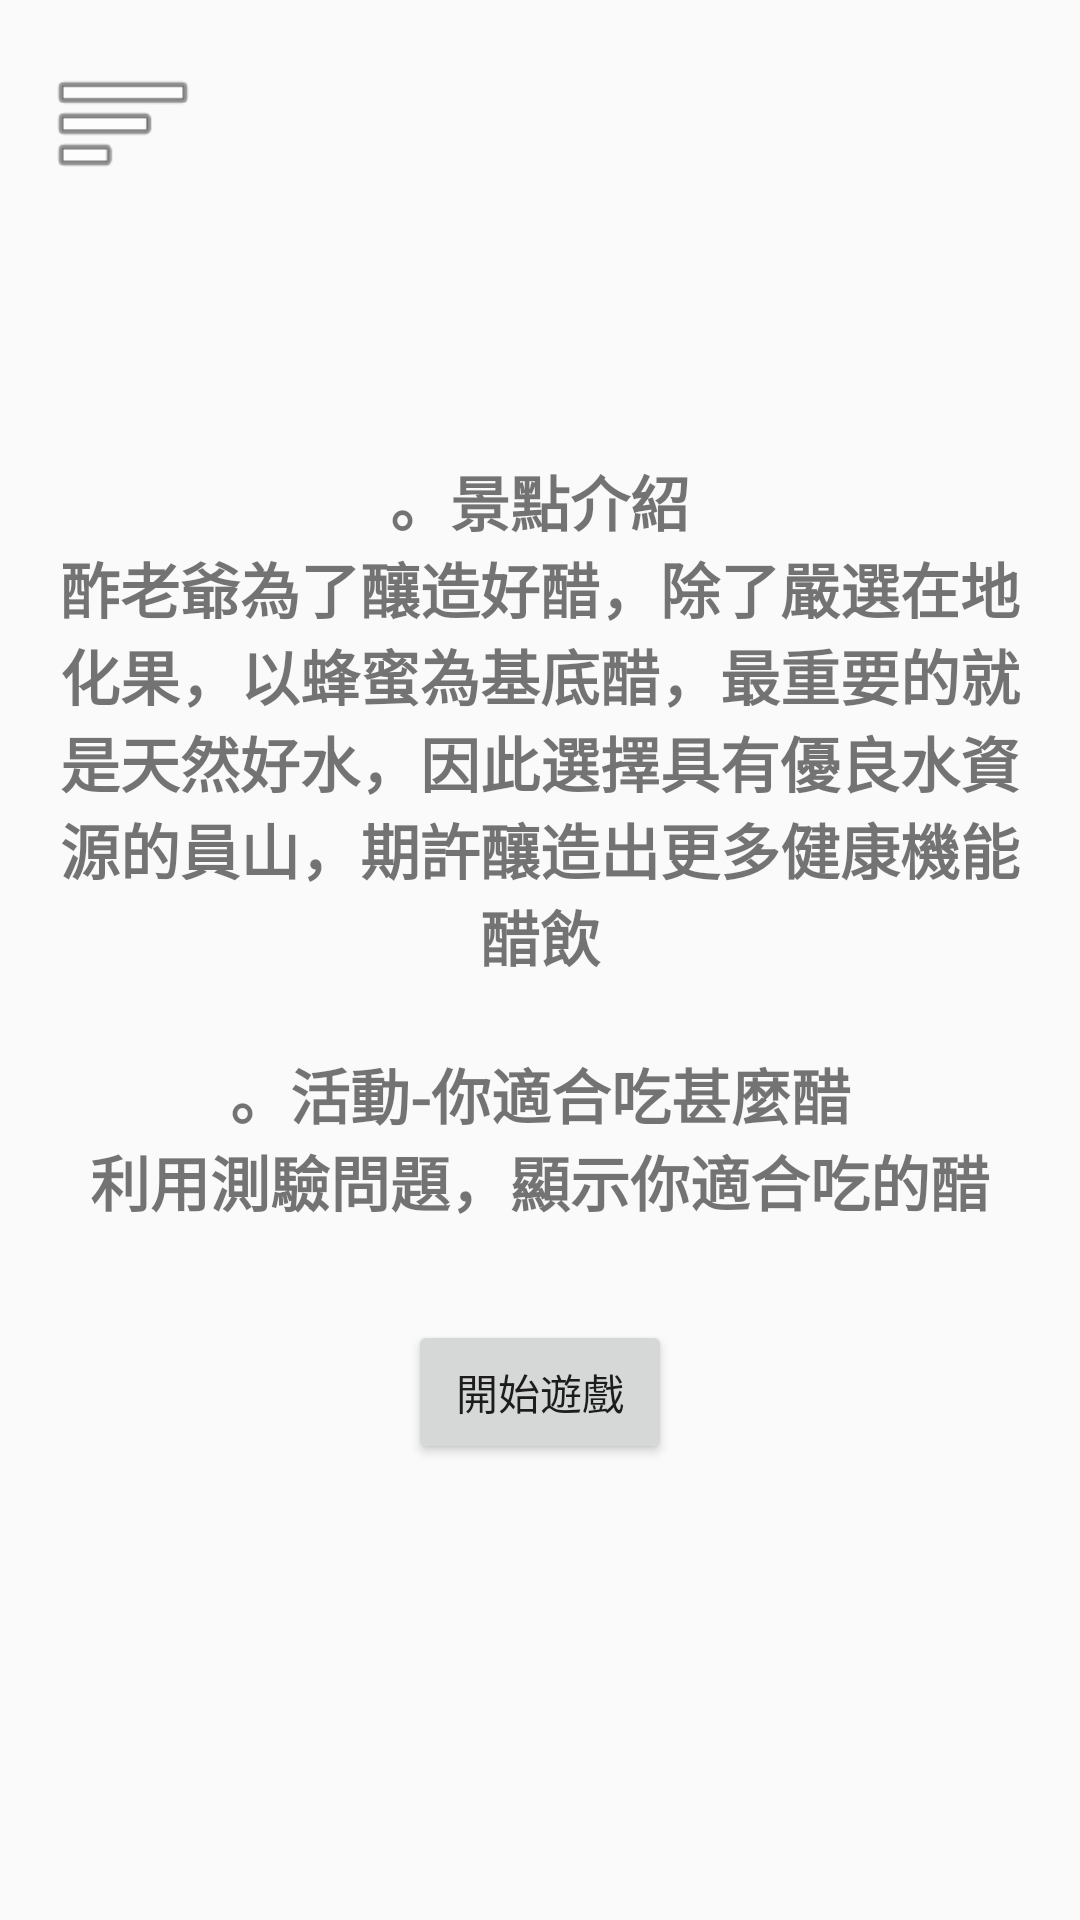

Where icons sit on this 1080w x 1920h app screen, as bbox=(x1, y1, x2, y2):
sort by size: bbox=(58, 82, 188, 166)
